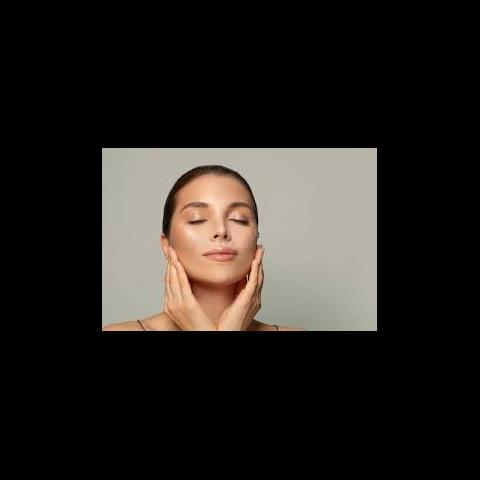closed: (181, 200, 258, 230)
